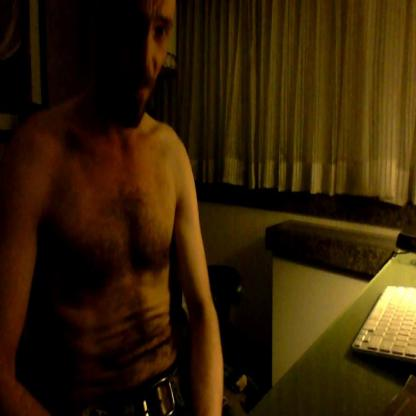board: (356, 241, 416, 370)
